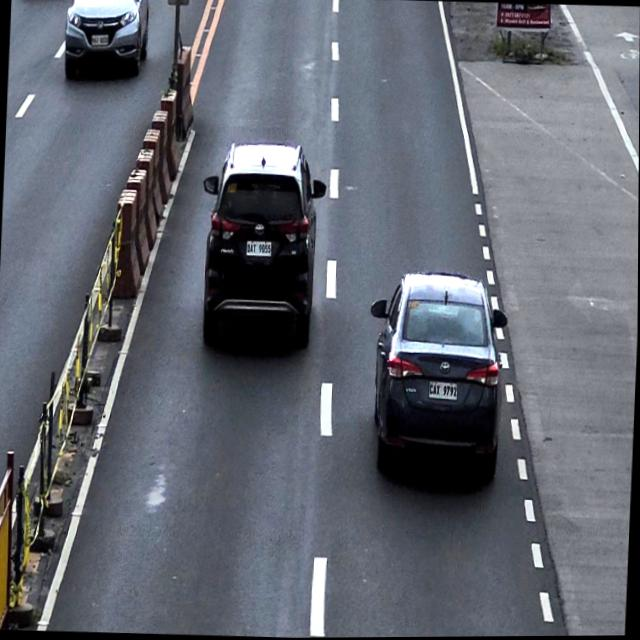Car: (364, 270, 512, 489), (196, 140, 329, 351), (63, 0, 151, 77)
License-Plate: (428, 380, 459, 401), (245, 240, 273, 259), (90, 34, 108, 48)
